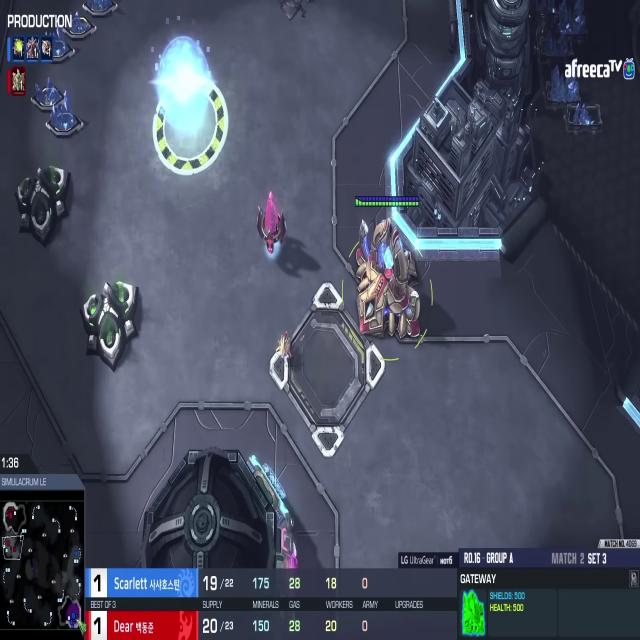probe: (274, 325, 294, 365)
